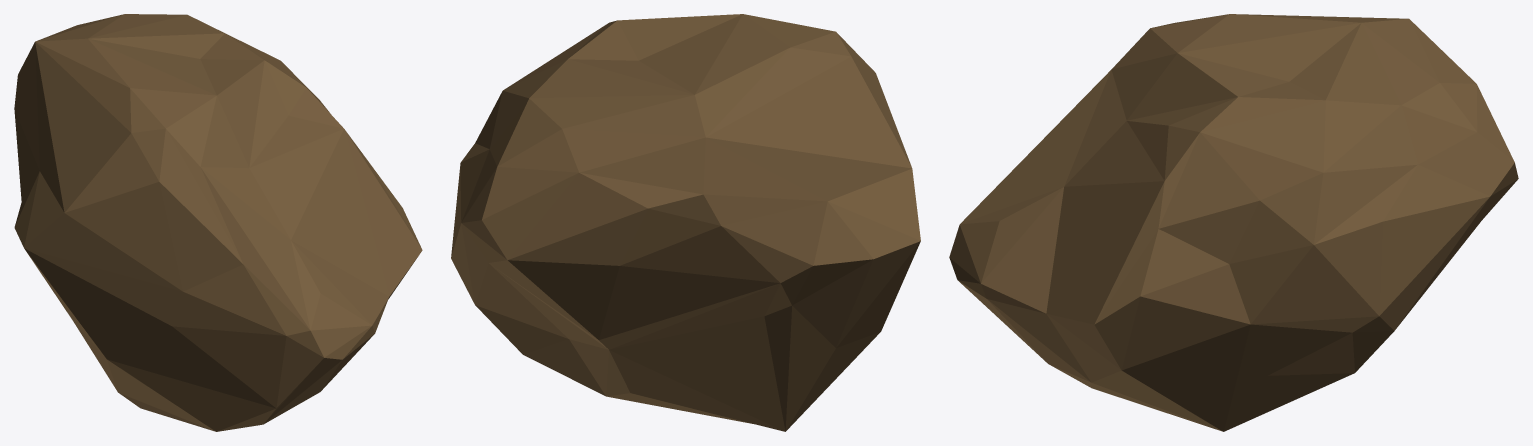
File: asteroid.fbx
The picture shows the model from 3 angles, left to right: view 1: azimuth 30°, elevation 25°; view 2: azimuth 150°, elevation 25°; view 3: azimuth 270°, elevation 25°; orthographic projection. The views are drawn at different scales.
Visible parts, largest first — view 1: pPlatonic1; view 2: pPlatonic1; view 3: pPlatonic1.
Boxes of the visible parts, x1,y1,x2,y2 form: pPlatonic1: (14, 14, 422, 431); pPlatonic1: (451, 14, 920, 431); pPlatonic1: (949, 14, 1518, 431).
Size of the model in its own units: 76.47 by 69.9 by 102.
